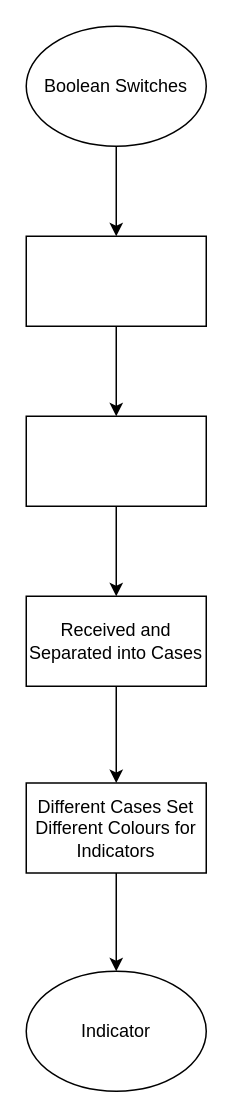
Some shapes in this 233 by 1118 pixel diagram are drawn without their labels. Here are the shapes that lost their labels. From the top down, the centre of each, then its label:
(x=115, y=280): Separated into Cases
(x=115, y=460): Sent to Server Side via TCP Connection
